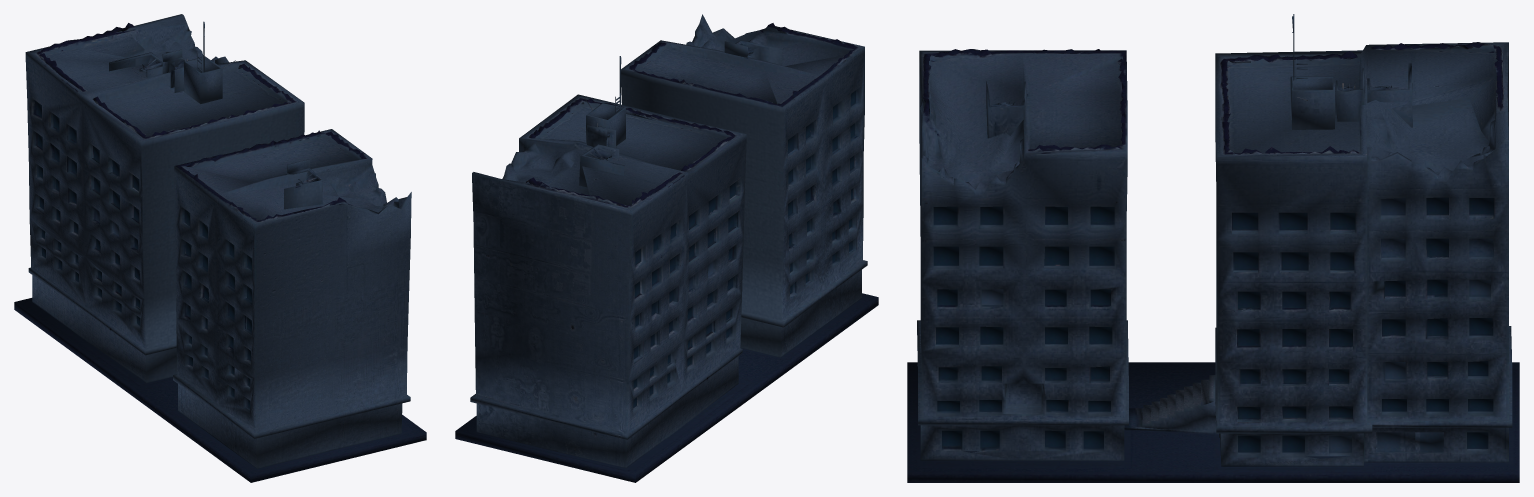
Rendered from RuinedCityBlock.fbx.
3 renders of one model, left to right at view 1: azimuth 30°, elevation 25°; view 2: azimuth 150°, elevation 25°; view 3: azimuth 270°, elevation 25°, orthographic. The views are drawn at different scales.
Parts seen in each view (by area): view 1: tripo_node_1ec579c0; view 2: tripo_node_1ec579c0; view 3: tripo_node_1ec579c0.
Part boxes in pixels (<box>): tripo_node_1ec579c0: <box>14,14,426,482</box>; tripo_node_1ec579c0: <box>455,14,878,482</box>; tripo_node_1ec579c0: <box>907,14,1519,482</box>.
Size of the model in its own units: 0.4277 by 0.7598 by 0.998.
1 material, 1 textured.
